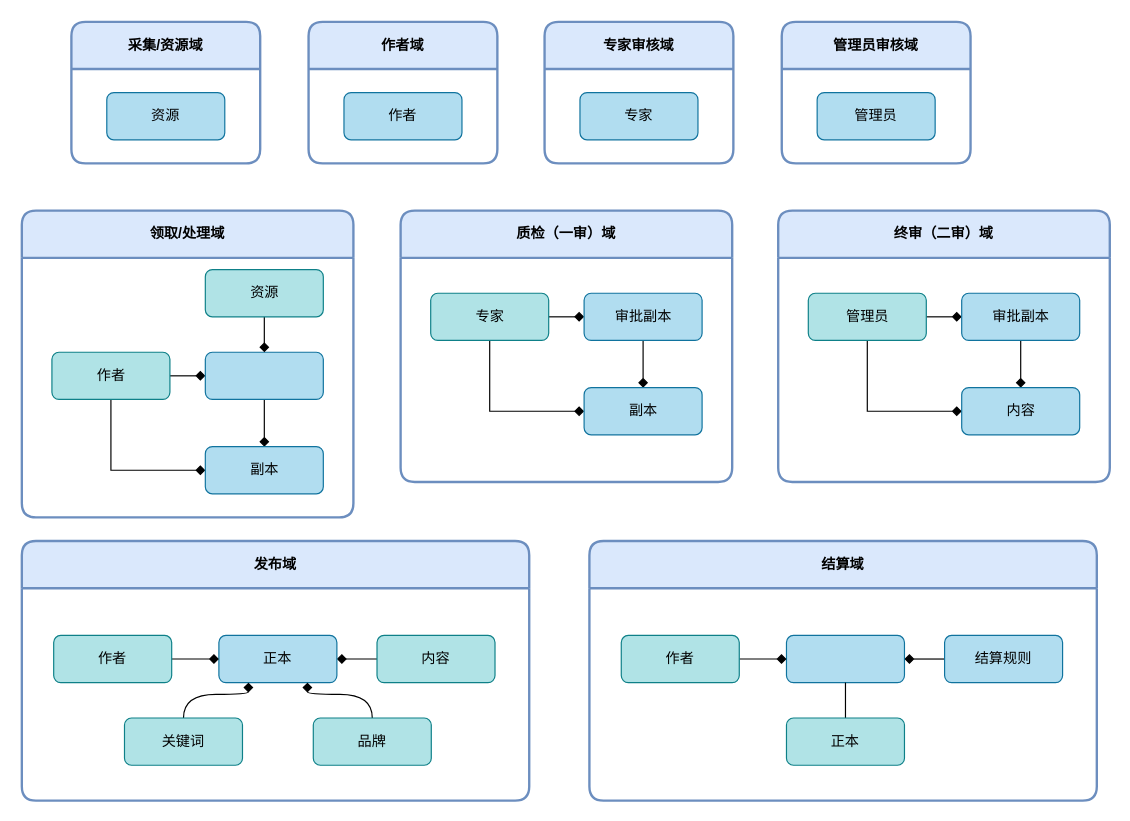
Some shapes in this 1130 by 821 pixel diagram are drawn without their labels. The centre of each missing label's shape, as x and y in pixels:
加工处理: (x=263, y=375)
结算: (x=844, y=658)
